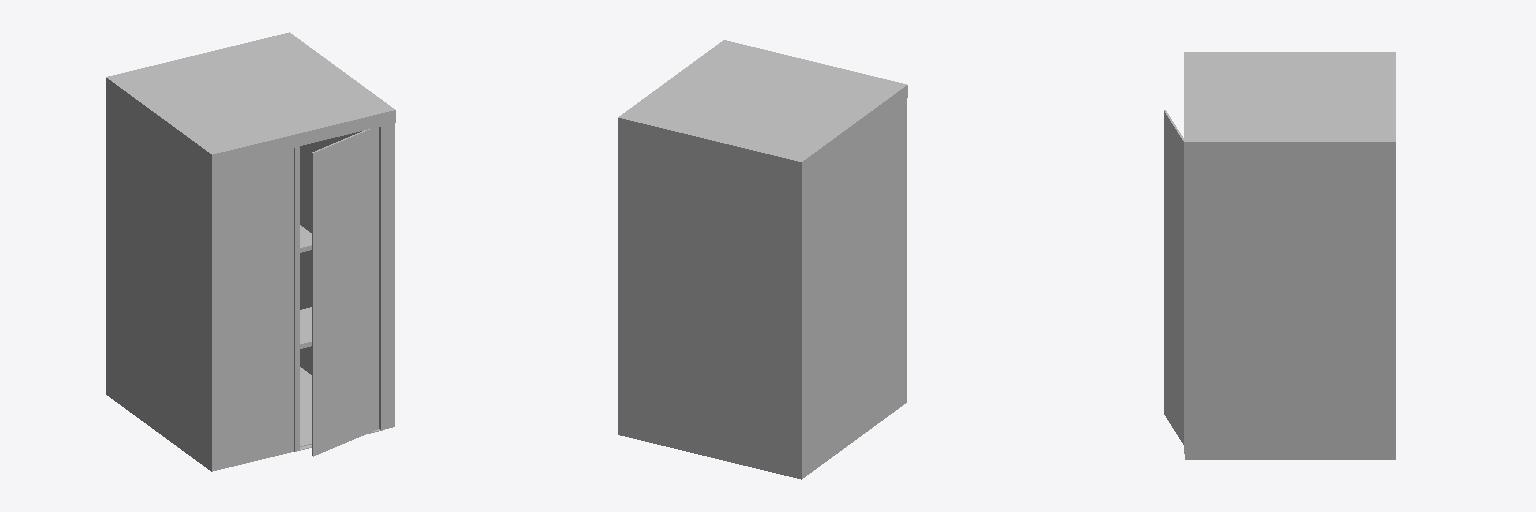
The model's file is sauna_120x120.obj.
3 views of the same model, side by side, from view 1: azimuth 30°, elevation 25°; view 2: azimuth 150°, elevation 25°; view 3: azimuth 270°, elevation 25° (orthographic).
Visible parts, largest first — view 1: 2_2, 22_22, 17_17, 4_4, 1_1, 14_14; view 2: 2_2, 17_17, 4_4; view 3: 2_2, 17_17, 22_22, 4_4.
Boxes of the visible parts, box(x1,y1,x2,y2) form: 2_2: box(106, 90, 394, 471); 22_22: box(312, 127, 378, 456); 17_17: box(110, 34, 391, 152); 4_4: box(106, 32, 395, 167); 1_1: box(294, 126, 383, 451); 14_14: box(300, 367, 311, 442); 2_2: box(618, 98, 906, 479); 17_17: box(622, 41, 903, 160); 4_4: box(618, 40, 907, 174); 2_2: box(1185, 155, 1395, 459); 17_17: box(1187, 54, 1393, 140); 22_22: box(1164, 110, 1183, 444); 4_4: box(1184, 52, 1395, 154).
Bounding box in the file's own units: 120 × 198 × 132.